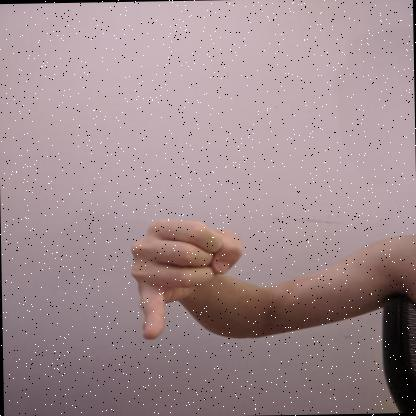J: (130, 219, 247, 339)
